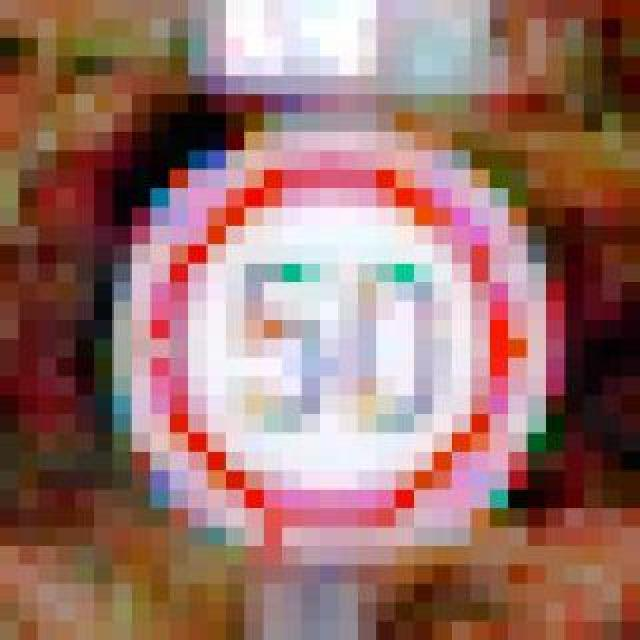50 kph: (114, 114, 528, 546)
